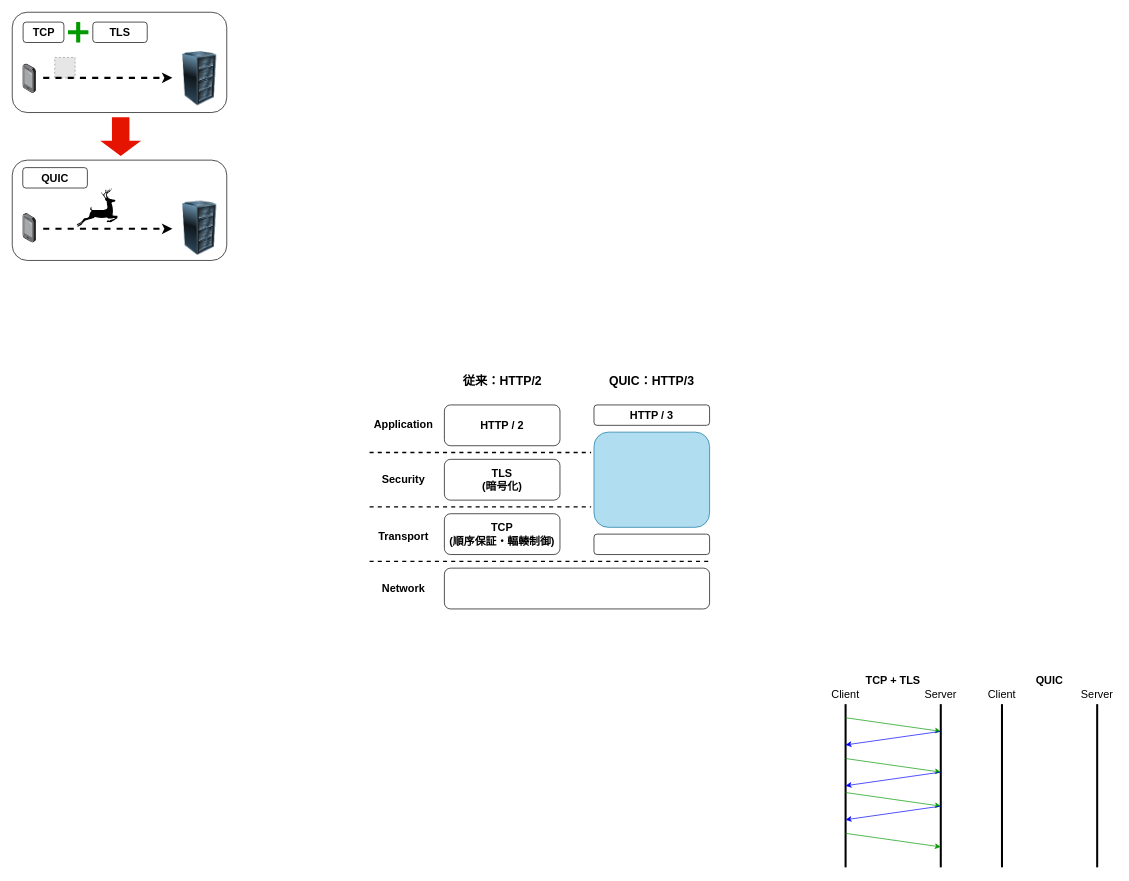
This 1129x881 diagram has some shape labels left out. Grey dashed boxes stand in for pictures. Here are the shapes that lost their labels. From the top down, the centre of each, then its label:
the point at 651,479: QUIC (暗号化 + 多重化 + 輻輳制御)
the point at 651,544: UDP (データの配送)
the point at 577,588: IP
